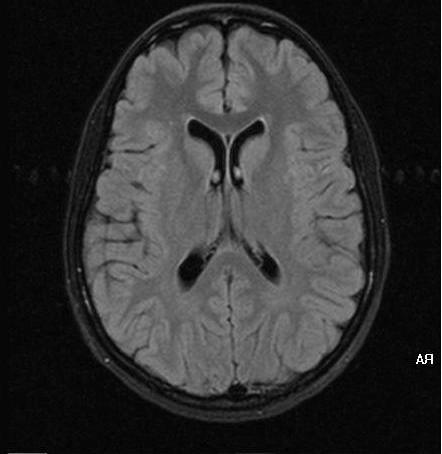Normal_Brain: (7, 6, 442, 454)
